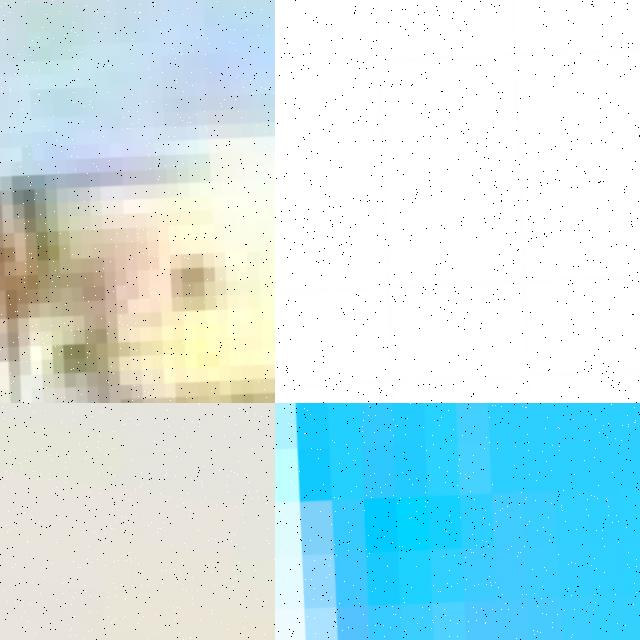0: (0, 0, 275, 403)
drone: (275, 0, 640, 403), (275, 403, 640, 640)
